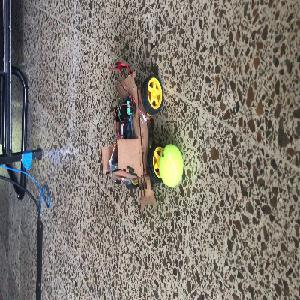Ball: (158, 144, 184, 187)
Robot: (102, 71, 162, 212)
